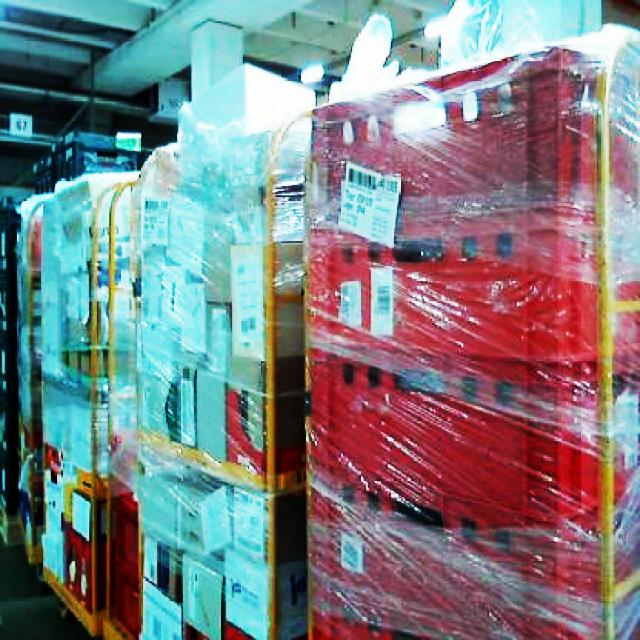pallet: (300, 22, 638, 638), (26, 120, 312, 638), (34, 168, 142, 638), (0, 198, 18, 548)
